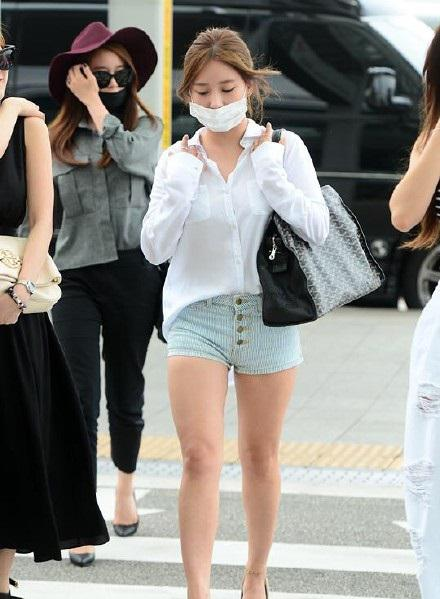WRONG: (187, 80, 249, 129), (84, 55, 130, 117)
